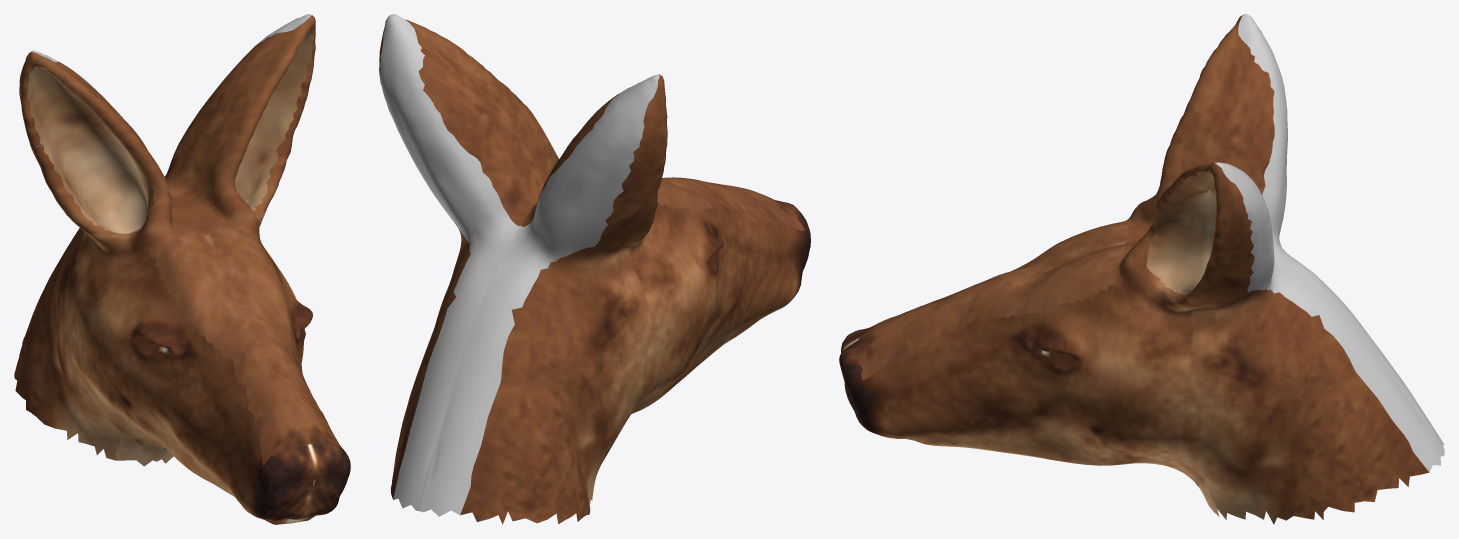
File: KGRO.fbx
The picture shows the model from 3 angles, left to right: view 1: azimuth 30°, elevation 25°; view 2: azimuth 150°, elevation 25°; view 3: azimuth 270°, elevation 25°; orthographic projection. The views are drawn at different scales.
Parts seen in each view (by area): view 1: KGROMAIN; view 2: KGROMAIN; view 3: KGROMAIN.
Part boxes in pixels (x1,y1,x2,y2): KGROMAIN: [14, 14, 350, 524]; KGROMAIN: [379, 14, 810, 524]; KGROMAIN: [839, 14, 1444, 524].
Bounding box in the file's own units: 3.03 × 4.44 × 5.57.
